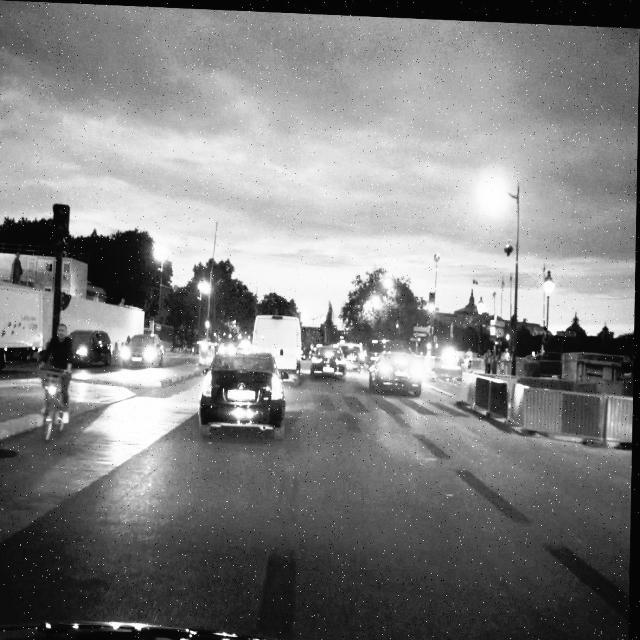Car: (200, 354, 286, 434)
Truck: (0, 276, 46, 376)
